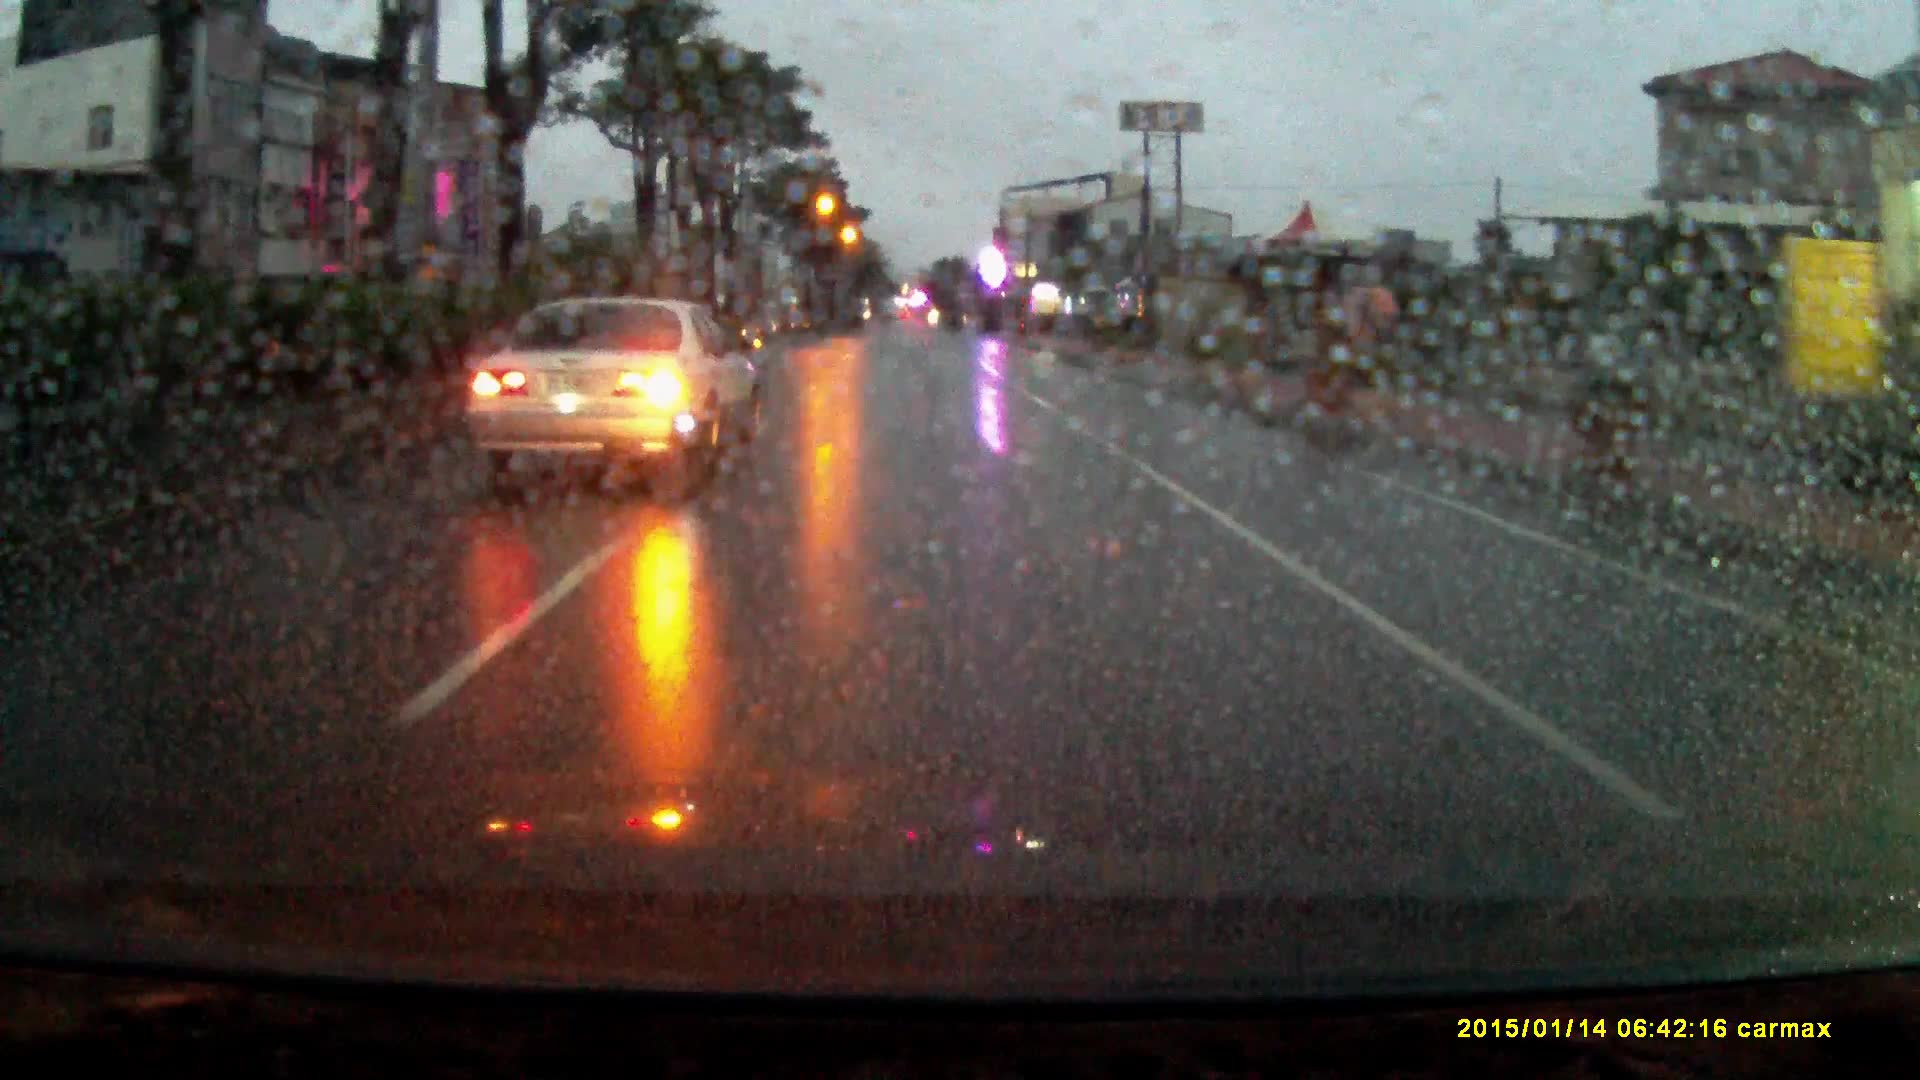pedestrian: (1330, 277, 1397, 410)
vehicle: (470, 288, 771, 488)
